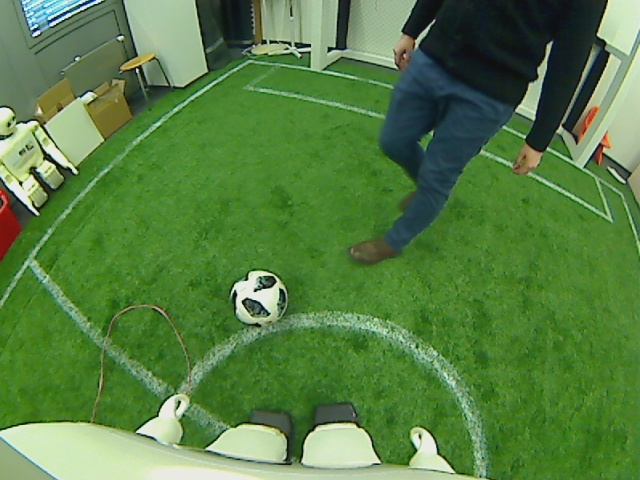ball: (228, 269, 289, 327)
